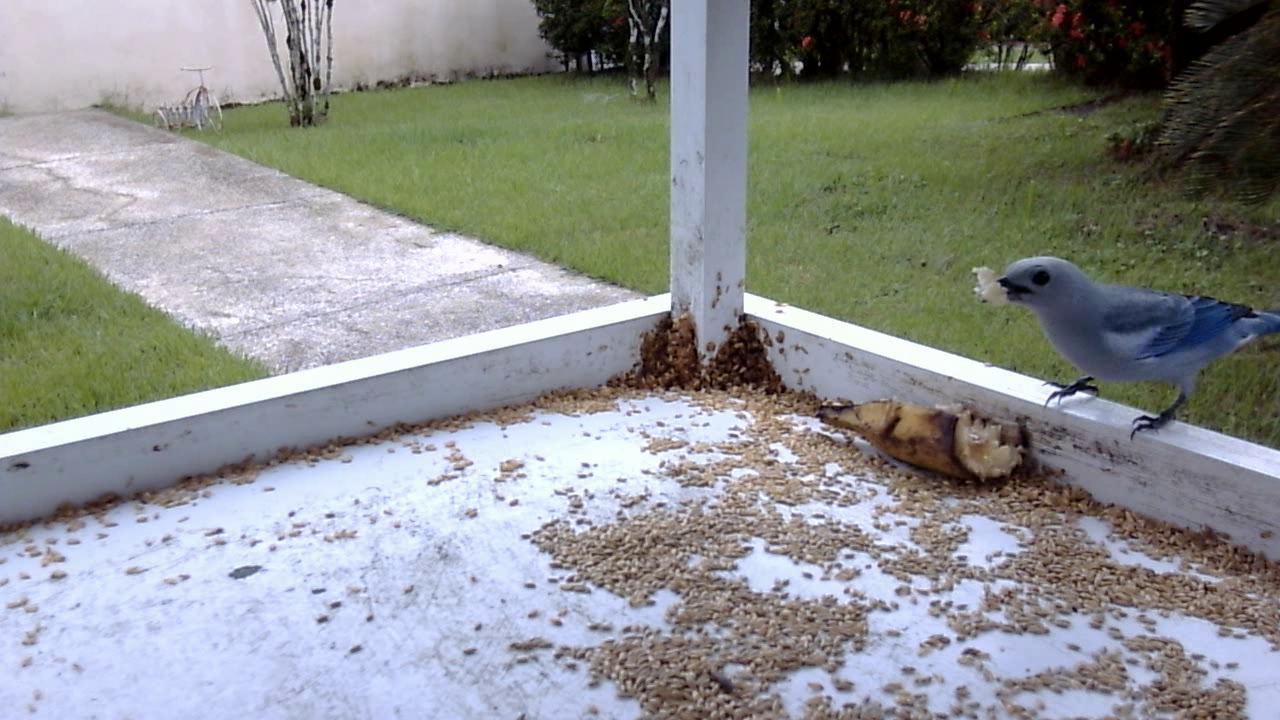sanhaco_da_amazonia: (978, 253, 1276, 444)
